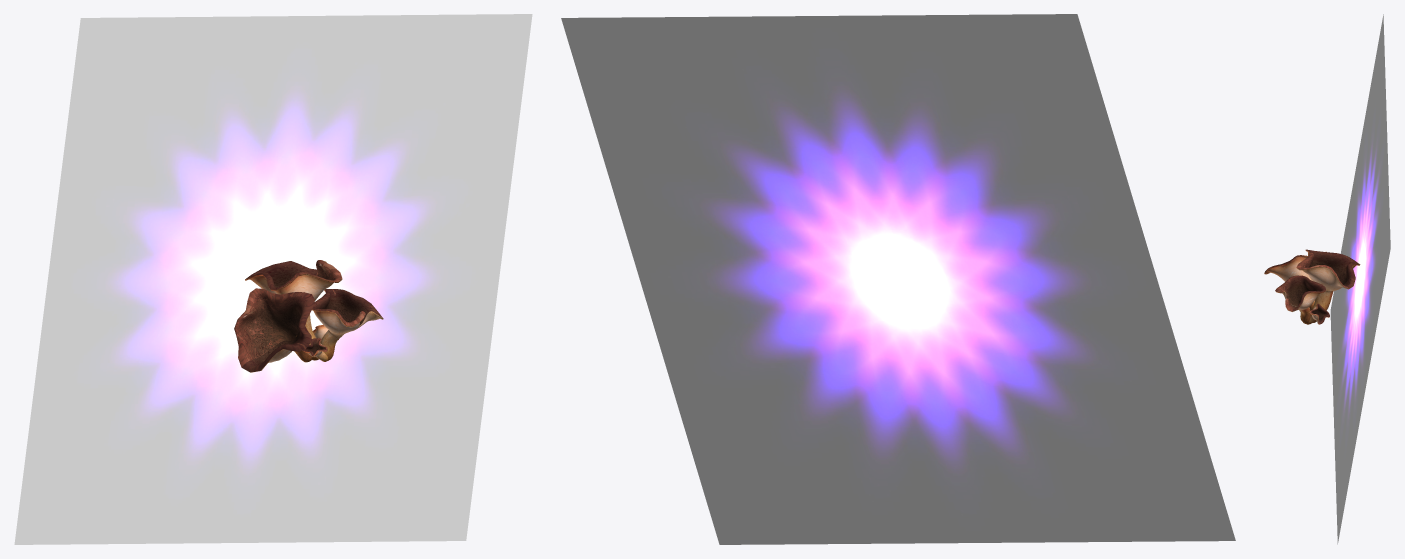
File: meitake.glb
3 renders of one model, left to right at view 1: azimuth 30°, elevation 25°; view 2: azimuth 150°, elevation 25°; view 3: azimuth 270°, elevation 25°, orthographic. The views are drawn at different scales.
Parts seen in each view (by area): view 1: fx.003, in, out; view 2: fx.003; view 3: fx.003, in, out.
Part boxes in pixels (x1=…): fx.003: x1=14, y1=14, x2=532, y2=544; in: x1=234, y1=260, x2=382, y2=372; out: x1=245, y1=260, x2=383, y2=372; fx.003: x1=561, y1=14, x2=1235, y2=544; fx.003: x1=1330, y1=14, x2=1390, y2=544; in: x1=1265, y1=249, x2=1359, y2=324; out: x1=1264, y1=250, x2=1359, y2=324.
Bounding box in the file's own units: 16.97 × 16.91 × 4.73.
Materials: 3 (3 with a texture image).
